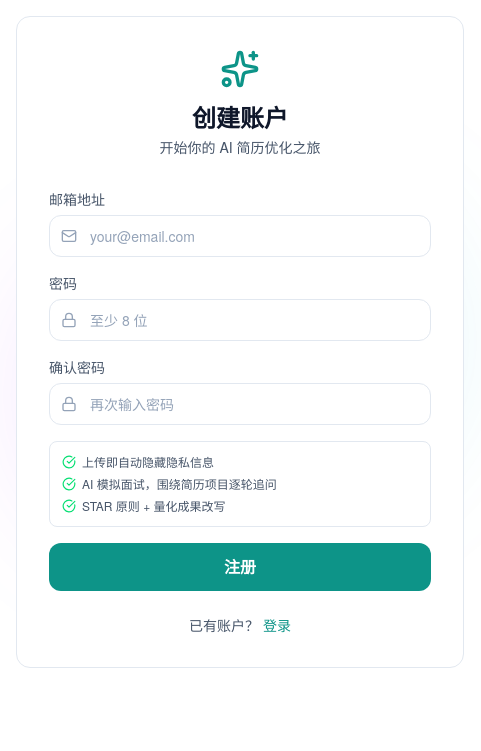
Test: RegisterPage › rejects mismatched passwords before hitting the API
Type "new@example.com" into the field with placeholder "your@email.com". click: (240,236)
box: left=49, top=215, right=431, bottom=257
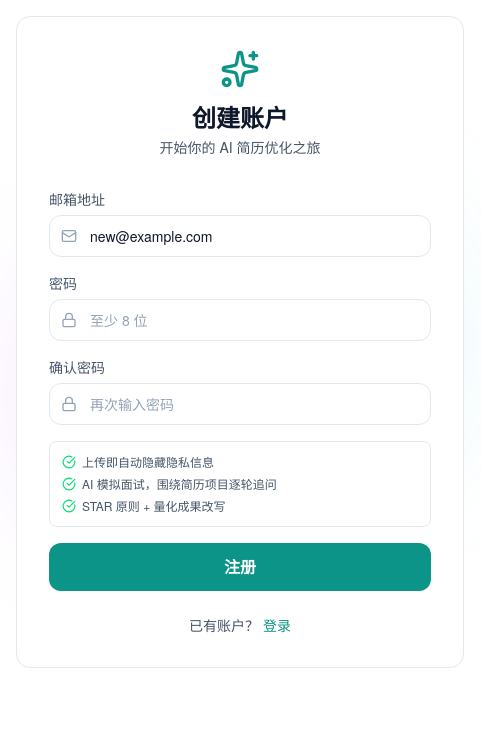
Type "Passw0rd!123" into the password field with placeholder "至少 8 位". click: (240,320)
box: left=49, top=299, right=431, bottom=341
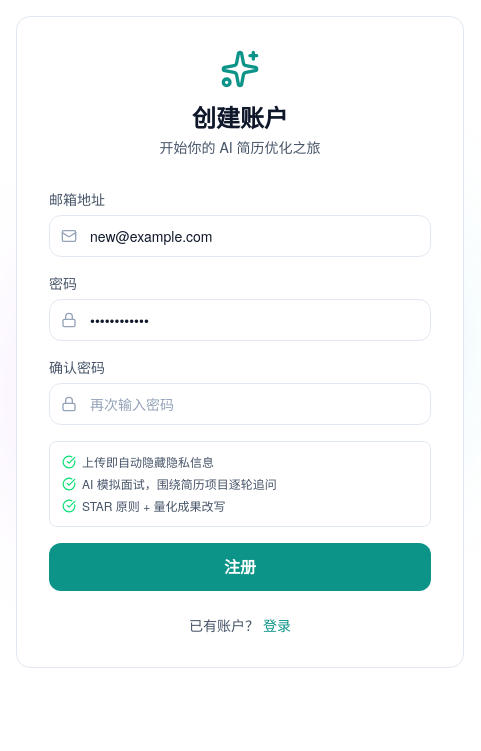
Type "Passw0rd!124" into the password field with placeholder "再次输入密码". click: (240,404)
box: left=49, top=383, right=431, bottom=425
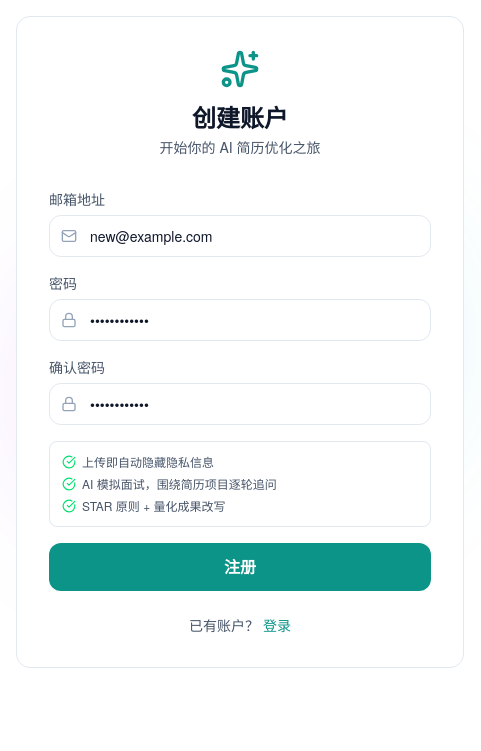
Submit the form, box left=49, top=189, right=431, bottom=591
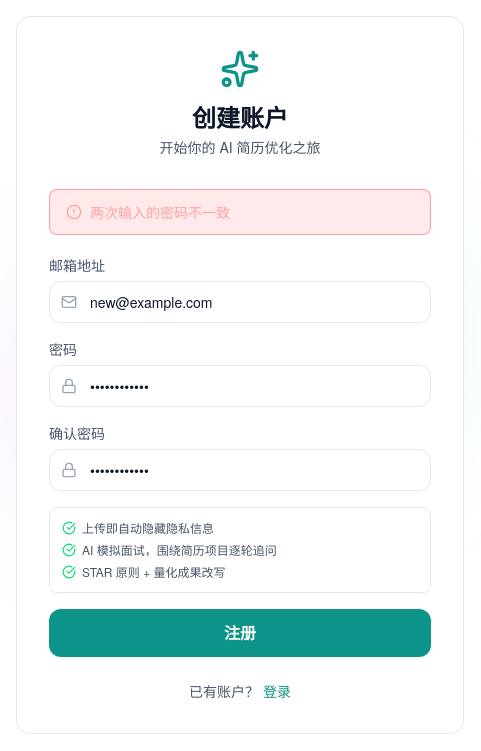
expect the text "两次输入的密码不一致" is shown: met, box left=90, top=202, right=230, bottom=222
